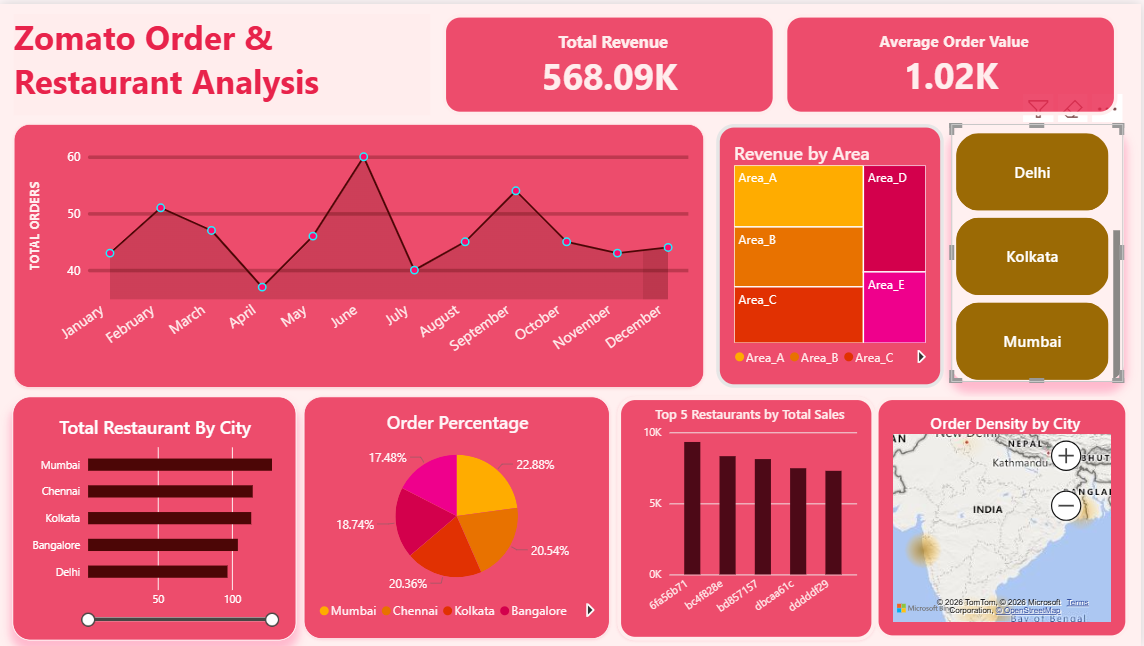

The page's visual inventory and layout, read from the dashboard file:
{"tool":"powerbi","page":{"name":"Page 1","canvas":[1280,720],"ordinal":0},"visuals":[{"type":"clusteredBarChart","title":"Total Restaurant By City","fields":{"Category":["Transformed file.city"],"Y":["CountNonNull(Transformed file.restaurant_id)"]},"box":[14,440.3,318.3,273.4],"z":0},{"type":"advancedSlicerVisual","fields":{"Values":["Transformed file.city"]},"box":[1072.7,134.6,193.5,288.9],"z":1000},{"type":"pieChart","title":"Order Percentage","fields":{"Category":["Transformed file.city"],"Y":["CountNonNull(Transformed file.order_id)"]},"box":[340.1,440.3,343.6,272],"z":2000},{"type":"lineChart","fields":{"Category":["Transformed file.order_date.Variation.Date Hierarchy.Month","Transformed file.order_date.Variation.Date Hierarchy.Day"],"Y":["CountNonNull(Transformed file.order_id)"]},"box":[15.4,134.6,774.1,295.9],"z":3000},{"type":"columnChart","title":"Top 5 Restaurants by Total Sales","fields":{"Category":["Transformed file.restaurant_id"],"Y":["Sum(Transformed file.total_cost)"]},"box":[692,440.3,288.9,273.4],"z":4000},{"type":"treemap","title":"Revenue by Area","fields":{"Group":["Transformed file.area"],"Values":["Sum(Transformed file.total_cost)"]},"box":[803.5,134.6,255.2,295.9],"z":5000},{"type":"map","title":"Order Density by City","fields":{"Category":["Transformed file.city"],"Size":["CountNonNull(Transformed file.order_id)"]},"box":[981.6,440.3,284.7,272],"z":6000},{"type":"card","title":"Total Revenue     ","fields":{"Values":["Sum(Transformed file.total_cost)"]},"box":[496.4,11.2,374.4,113.6],"z":7000},{"type":"card","title":"Average Order Value  ","fields":{"Values":["Avg(Transformed file.total_cost)"]},"box":[879.2,11.2,374.4,113.6],"z":7001},{"type":"textbox","box":[15.4,11.2,467,113.6],"z":7002}]}

Visuals, with their boxes in screenshot pixels (x1, y1, x2, y2), scaled from the page's 1280x720 canvas onto the 1144x646 screenshot:
"Total Restaurant By City" clusteredBarChart: 13, 395, 297, 640
advancedSlicerVisual - Transformed file.city: 959, 121, 1132, 380
"Order Percentage" pieChart: 304, 395, 611, 639
lineChart - Transformed file.order_date.Variation.Date Hierarchy.Month x Transformed file.order_date.Variation.Date Hierarchy.Day: 14, 121, 706, 386
"Top 5 Restaurants by Total Sales" columnChart: 618, 395, 877, 640
"Revenue by Area" treemap: 718, 121, 946, 386
"Order Density by City" map: 877, 395, 1132, 639
"Total Revenue     " card: 444, 10, 778, 112
"Average Order Value  " card: 786, 10, 1120, 112
textbox: 14, 10, 431, 112
